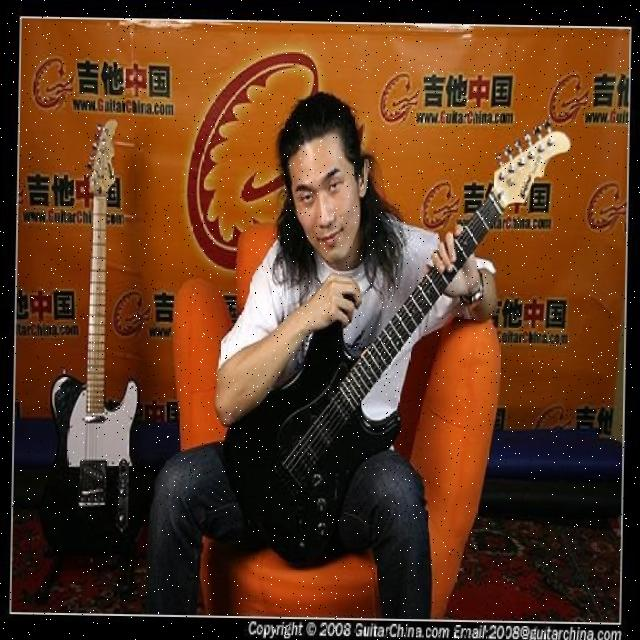guitar: (213, 116, 573, 577), (37, 114, 158, 564)
